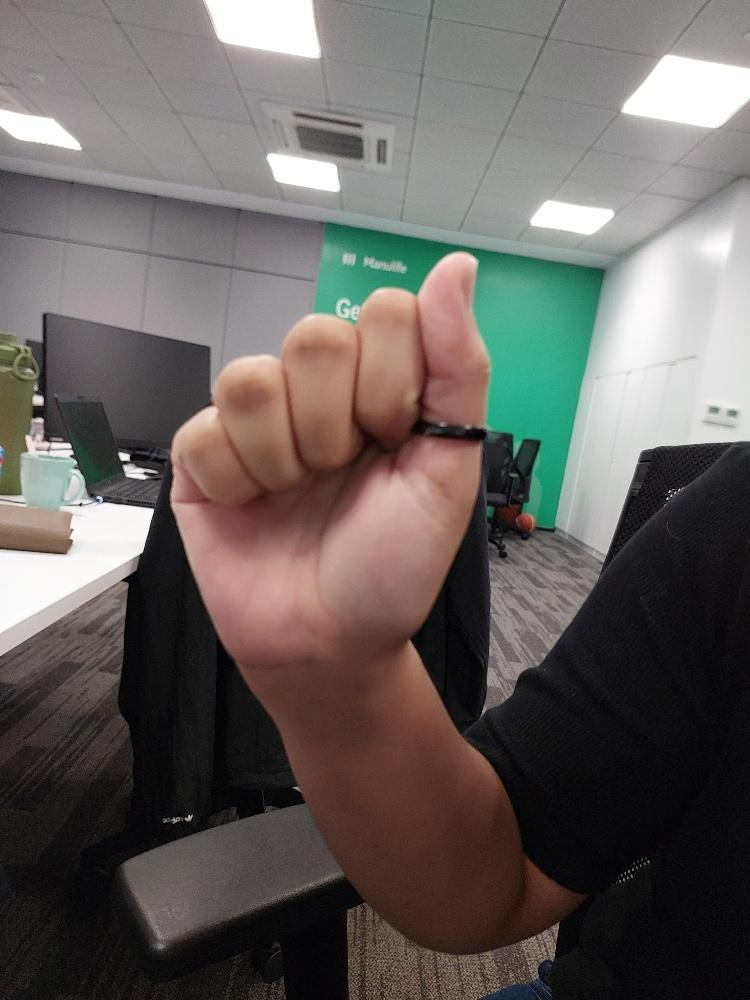a: (165, 243, 493, 669)
